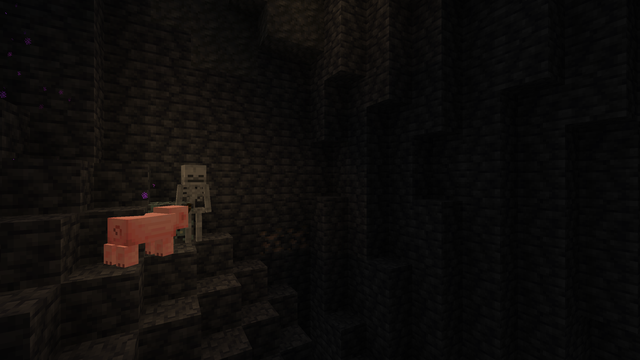cochons: (112, 210, 168, 266)
squelettes: (180, 164, 207, 244)
